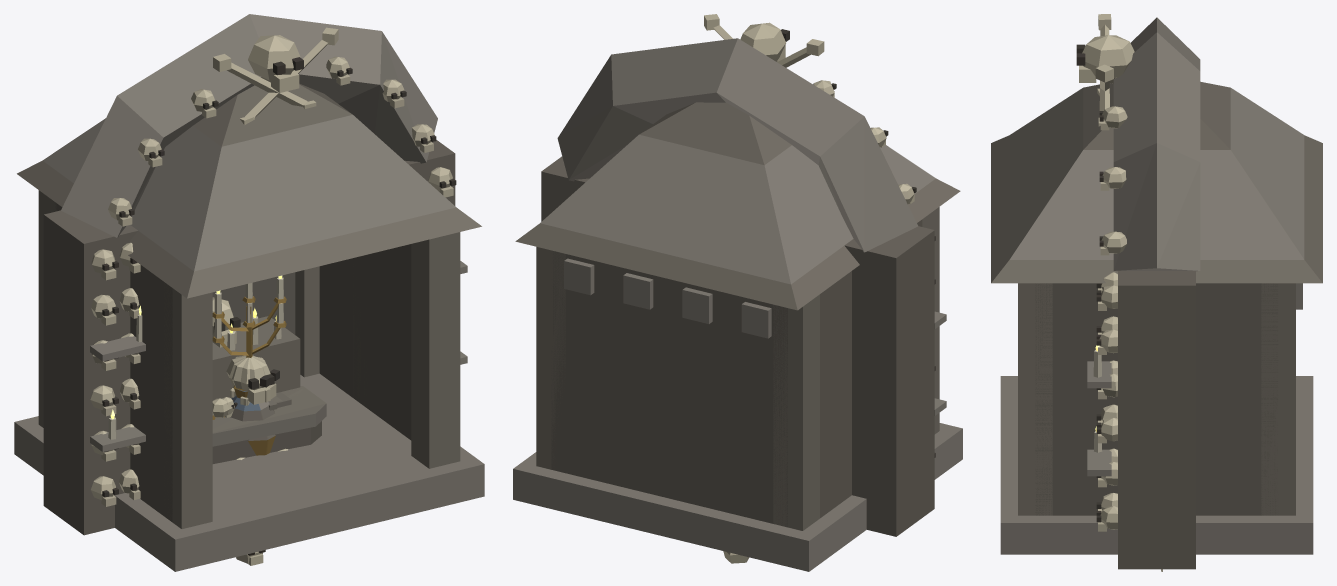
File: ossuary.glb
3 views of the same model, side by side, from view 1: azimuth 30°, elevation 25°; view 2: azimuth 150°, elevation 25°; view 3: azimuth 270°, elevation 25° (orthographic). The views are drawn at different scales.
Visible parts, largest first — view 1: ossuary_crypt_shrine_a, ossuary_bone_arch_a, ossuary_sarcophagus_a, ossuary_candelabra_b, ossuary_bone_lantern_b, ossuary_bone_lantern_a, ossuary_candelabra_a, ossuary_funeral_urn_a; view 2: ossuary_crypt_shrine_a, ossuary_bone_arch_a; view 3: ossuary_crypt_shrine_a, ossuary_bone_arch_a.
Boxes of the visible parts, x1=… form: ossuary_crypt_shrine_a: x1=14, y1=83, x2=484, y2=571; ossuary_bone_arch_a: x1=43, y1=14, x2=467, y2=535; ossuary_sarcophagus_a: x1=212, y1=386, x2=326, y2=463; ossuary_candelabra_b: x1=212, y1=275, x2=286, y2=357; ossuary_bone_lantern_b: x1=226, y1=355, x2=279, y2=405; ossuary_bone_lantern_a: x1=229, y1=355, x2=274, y2=405; ossuary_candelabra_a: x1=212, y1=302, x2=286, y2=356; ossuary_funeral_urn_a: x1=212, y1=385, x2=268, y2=455; ossuary_crypt_shrine_a: x1=513, y1=102, x2=962, y2=571; ossuary_bone_arch_a: x1=541, y1=14, x2=946, y2=536; ossuary_crypt_shrine_a: x1=991, y1=81, x2=1322, y2=554; ossuary_bone_arch_a: x1=1076, y1=14, x2=1200, y2=569.
Bounding box in the file's own units: 2.44 × 3.37 × 1.91.
